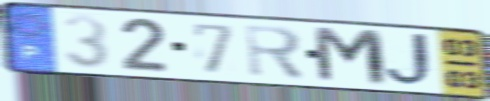2: (120, 16, 173, 76)
3: (62, 12, 110, 72)
7: (190, 21, 236, 76)
J: (382, 31, 440, 89)
M: (310, 24, 392, 89)
R: (242, 22, 309, 83)
